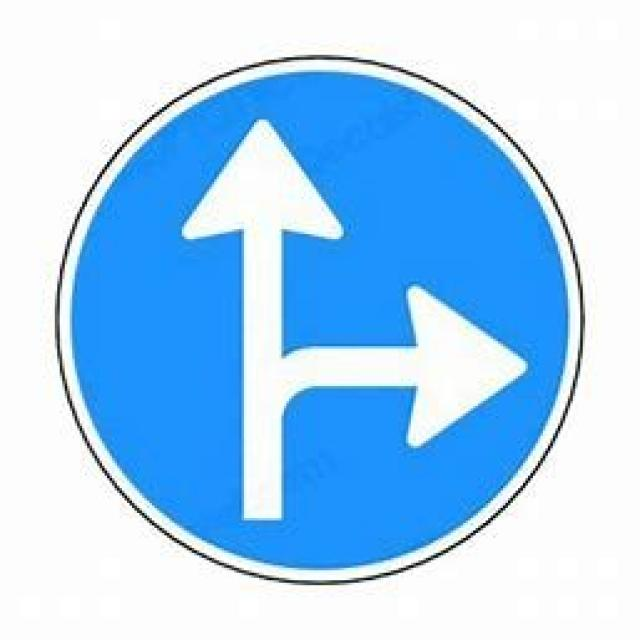compulsory_ahead_or_left: (52, 55, 583, 585)
